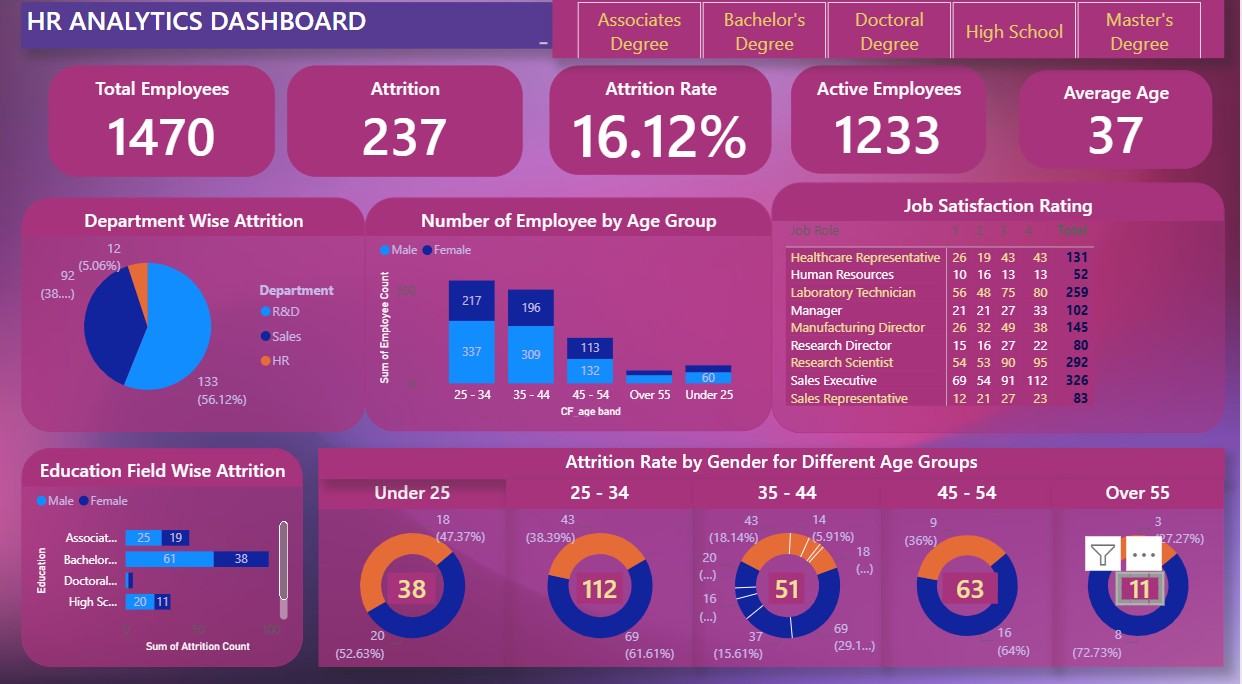

The dashboard page shown, as its layout file describes it:
{"tool":"powerbi","page":{"name":"Page 1","canvas":[1280,720],"ordinal":0},"visuals":[{"type":"card","title":"Total Employees","fields":{"Values":["Sum(HR data.Employee Count)"]},"box":[59.9,72.2,232,113.7],"z":0},{"type":"card","title":"Attrition","fields":{"Values":["Sum(HR data.Attrition Count)"]},"box":[304.2,72.2,241.2,113.7],"z":1000},{"type":"card","title":"Attrition Rate","fields":{"Values":["HR data.Attrition Rate"]},"box":[573,72.2,227.4,112.2],"z":2000},{"type":"card","title":"Active Employees","fields":{"Values":["HR data.Active Employees"]},"box":[820.4,72.2,199.7,110.6],"z":3000},{"type":"card","title":"Average Age","fields":{"Values":["Avg(HR data.Age)"]},"box":[1053.9,76.8,198.2,101.4],"z":4000},{"type":"pieChart","title":"Department Wise Attrition","fields":{"Category":["HR data.Department"],"Y":["Sum(HR data.Attrition Count)"]},"box":[32,208,352,240],"z":5000},{"type":"columnChart","title":"Number of Employee by Age Group","fields":{"Y":["Sum(HR data.Employee Count)"],"Category":["HR data.CF_age band"],"Series":["HR data.Gender"]},"box":[384.1,207.4,416.3,239.7],"z":6000},{"type":"pivotTable","title":"Job Satisfaction Rating","fields":{"Rows":["HR data.Job Role"],"Columns":["HR data.Job Satisfaction"],"Values":["Sum(HR data.Employee Count)"]},"box":[800.4,192,464,256.6],"z":7000},{"type":"barChart","title":"Education Field Wise Attrition","fields":{"Series":["HR data.Gender"],"Y":["Sum(HR data.Attrition Count)"],"Category":["HR data.Education"]},"box":[32,464,288,224],"z":8000},{"type":"donutChart","title":"Under 25","fields":{"Category":["HR data.Gender"],"Y":["Sum(HR data.Attrition Count)"],"Series":["HR data.CF_age band"]},"box":[336,496,192,192],"z":9000},{"type":"textbox","title":"Attrition Rate by Gender for Different Age Groups","box":[336,464,928,32],"z":10000},{"type":"donutChart","title":"25 - 34","fields":{"Category":["HR data.Gender"],"Y":["Sum(HR data.Attrition Count)"],"Series":["HR data.CF_age band"]},"box":[528,496,192,192],"z":11000},{"type":"donutChart","title":"35 - 44","fields":{"Category":["HR data.Gender"],"Y":["Sum(HR data.Attrition Count)"],"Series":["HR data.CF_age band"]},"box":[720,496,192,192],"z":12000},{"type":"donutChart","title":"45 - 54","fields":{"Category":["HR data.Gender"],"Y":["Sum(HR data.Attrition Count)"],"Series":["HR data.CF_age band"]},"box":[912,496,176,192],"z":13000},{"type":"donutChart","title":"Over 55","fields":{"Category":["HR data.Gender"],"Y":["Sum(HR data.Attrition Count)"],"Series":["HR data.CF_age band"]},"box":[1088,496,176,192],"z":14000},{"type":"card","fields":{"Values":["Sum(HR data.Attrition Count)"]},"box":[407.1,591.5,49.2,32.3],"z":15000},{"type":"card","fields":{"Values":["Sum(HR data.Attrition Count)"]},"box":[1153.8,591.5,47.6,32.3],"z":16000},{"type":"card","fields":{"Values":["Sum(HR data.Attrition Count)"]},"box":[797.3,591.5,36.9,32.3],"z":17000},{"type":"card","fields":{"Values":["Sum(HR data.Attrition Count)"]},"box":[600.7,591.5,47.6,32.3],"z":18000},{"type":"card","fields":{"Values":["Sum(HR data.Attrition Count)"]},"box":[975.6,591.5,56.8,32.3],"z":19000},{"type":"textbox","title":"HR ANALYTICS DASHBOARD","box":[32.3,7.7,543.9,47.6],"z":20000},{"type":"slicer","fields":{"Values":["HR data.Education"]},"box":[576.1,0,688.3,64.5],"z":21000}]}

Visuals, with their boxes in screenshot pixels (x1, y1, x2, y2), scaled from the page's 1280x720 canvas onto the 1242x684 screenshot:
"Total Employees" card: [x1=58, y1=69, x2=283, y2=177]
"Attrition" card: [x1=295, y1=69, x2=529, y2=177]
"Attrition Rate" card: [x1=556, y1=69, x2=777, y2=175]
"Active Employees" card: [x1=796, y1=69, x2=990, y2=174]
"Average Age" card: [x1=1023, y1=73, x2=1215, y2=169]
"Department Wise Attrition" pieChart: [x1=31, y1=198, x2=373, y2=426]
"Number of Employee by Age Group" columnChart: [x1=373, y1=197, x2=777, y2=425]
"Job Satisfaction Rating" pivotTable: [x1=777, y1=182, x2=1227, y2=426]
"Education Field Wise Attrition" barChart: [x1=31, y1=441, x2=310, y2=654]
"Under 25" donutChart: [x1=326, y1=471, x2=512, y2=654]
"Attrition Rate by Gender for Different Age Groups" textbox: [x1=326, y1=441, x2=1226, y2=471]
"25 - 34" donutChart: [x1=512, y1=471, x2=699, y2=654]
"35 - 44" donutChart: [x1=699, y1=471, x2=885, y2=654]
"45 - 54" donutChart: [x1=885, y1=471, x2=1056, y2=654]
"Over 55" donutChart: [x1=1056, y1=471, x2=1226, y2=654]
card - Sum(HR data.Attrition Count): [x1=395, y1=562, x2=443, y2=593]
card - Sum(HR data.Attrition Count): [x1=1120, y1=562, x2=1166, y2=593]
card - Sum(HR data.Attrition Count): [x1=774, y1=562, x2=809, y2=593]
card - Sum(HR data.Attrition Count): [x1=583, y1=562, x2=629, y2=593]
card - Sum(HR data.Attrition Count): [x1=947, y1=562, x2=1002, y2=593]
"HR ANALYTICS DASHBOARD" textbox: [x1=31, y1=7, x2=559, y2=53]
slicer - HR data.Education: [x1=559, y1=0, x2=1227, y2=61]
